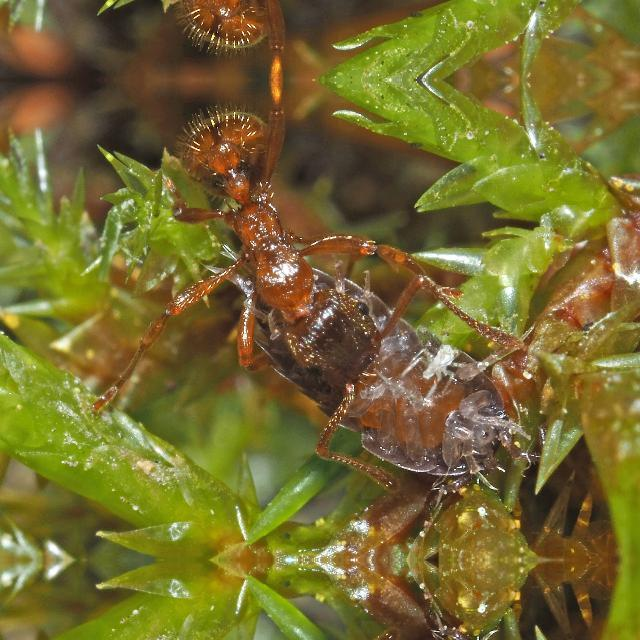Myrmica: (112, 83, 458, 403), (112, 0, 458, 76)
